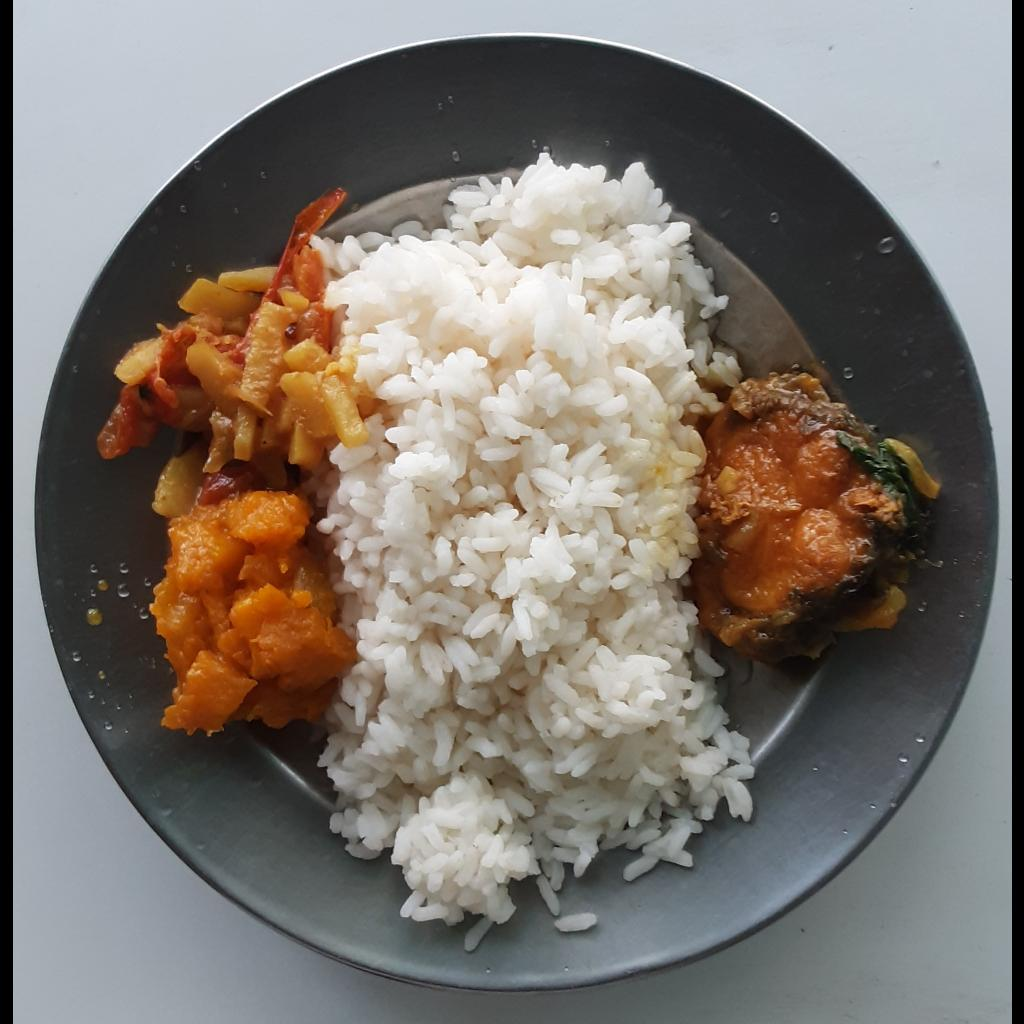fish: (695, 369, 942, 665)
kumra-vaji: (148, 490, 347, 736)
potato: (89, 187, 367, 517)
rice: (303, 150, 754, 949)
